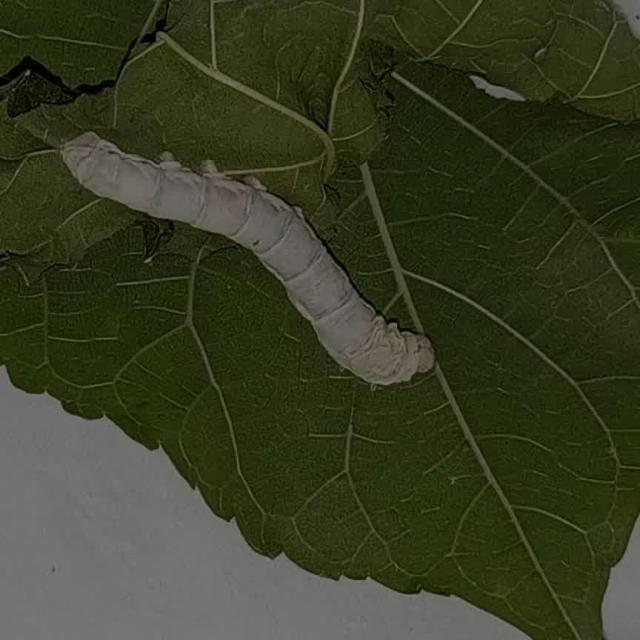Healthy: (51, 78, 450, 416)
